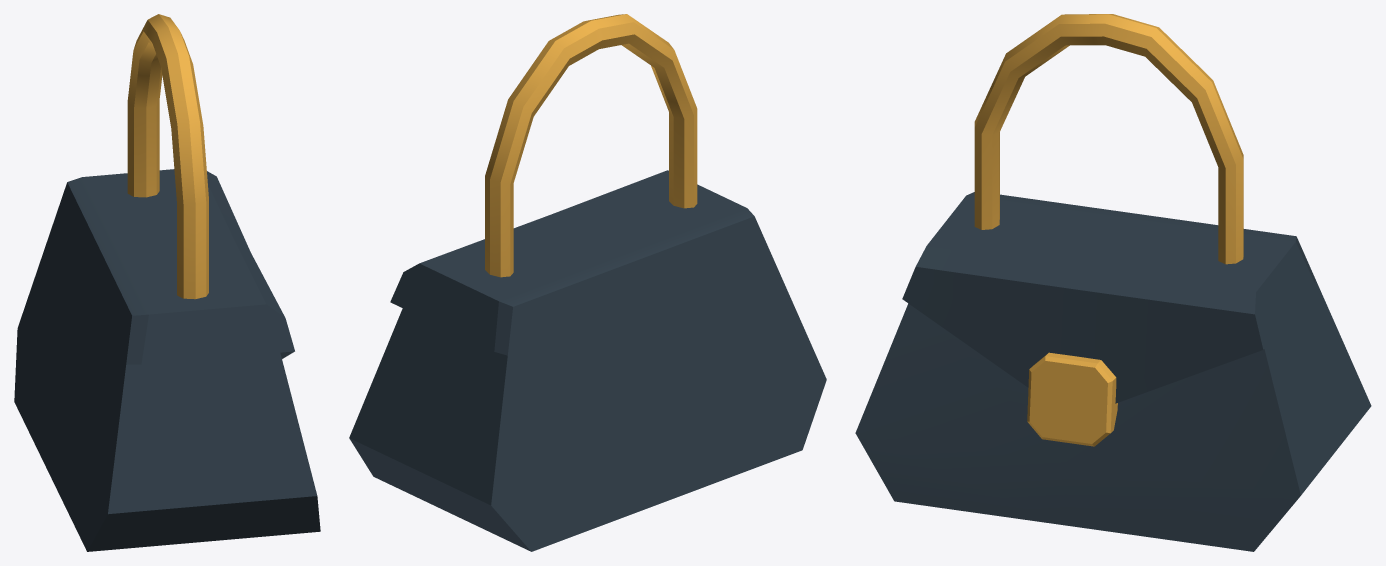
File: Accesorios_Bolso.fbx
3 renders of one model, left to right at view 1: azimuth 30°, elevation 25°; view 2: azimuth 150°, elevation 25°; view 3: azimuth 270°, elevation 25°, orthographic. The views are drawn at different scales.
Parts seen in each view (by area): view 1: pCube1, pTorus1; view 2: pCube1, pTorus1; view 3: pCube1, pTorus1, pCube2.
Part boxes in pixels (x1,y1,x2,y2): pCube1: (14,169,320,551); pTorus1: (127,14,208,299); pCube1: (349,170,826,551); pTorus1: (485,14,697,277); pCube1: (855,192,1371,551); pTorus1: (974,14,1243,264); pCube2: (1027,352,1117,446).
Bounding box in the file's own units: 0.956 × 1.35 × 1.37.
